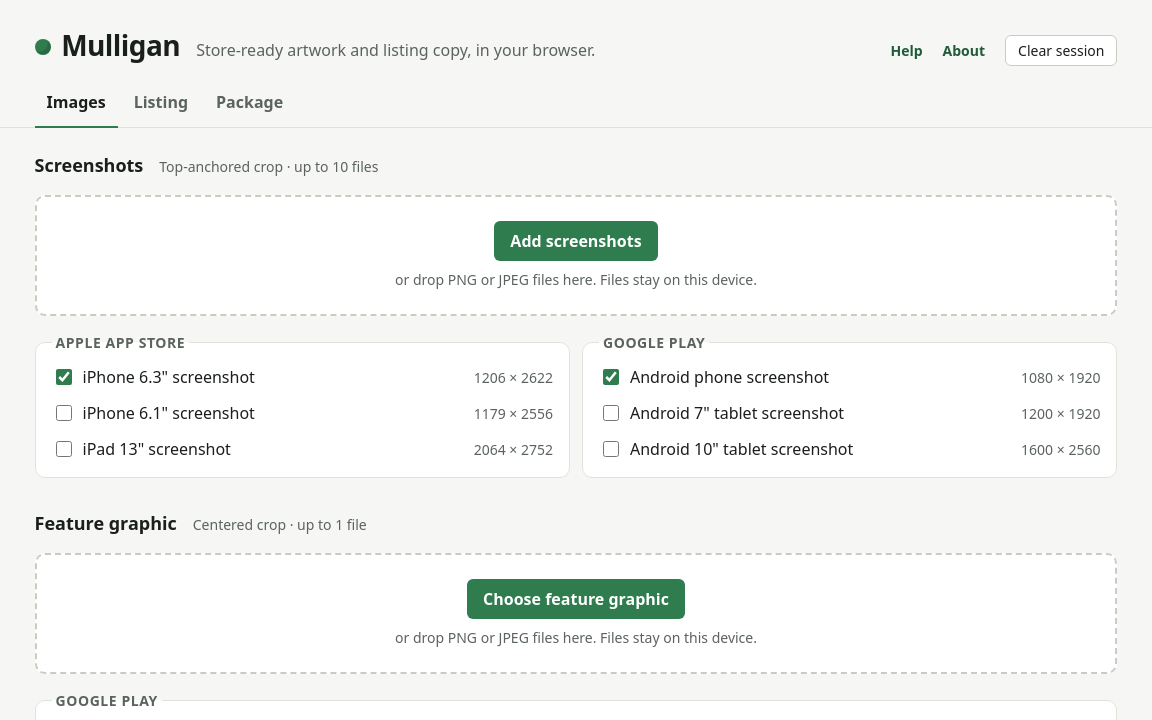
App shell › shows the empty package state on the Package tab
Click the tab "Package".
click(250, 103)  # box [204,78,295,128]
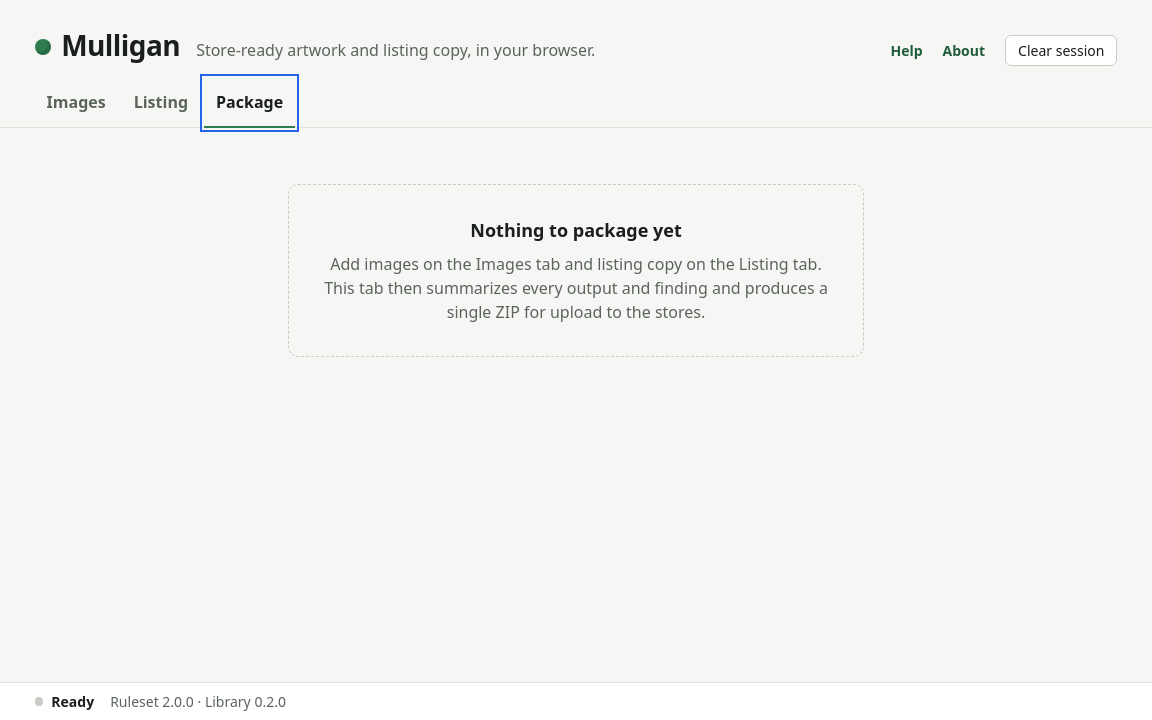
Check: the heading "Nothing to package yet" is shown, box [470,218,682,242]
